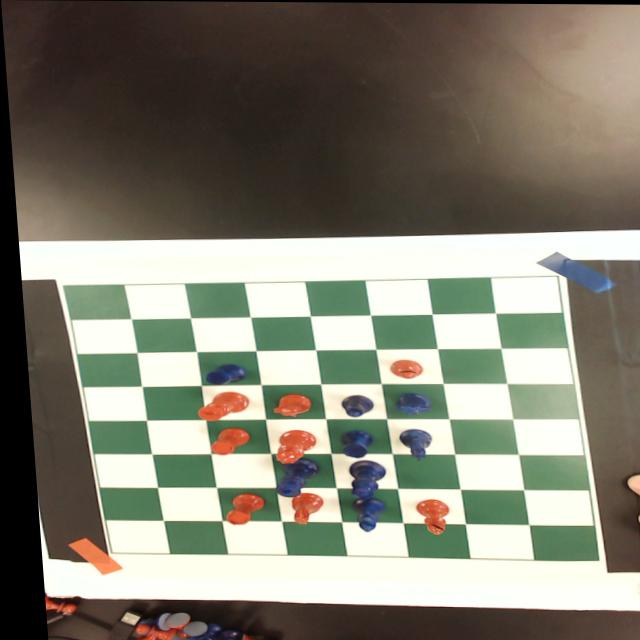B: (339, 498, 378, 533), (331, 394, 368, 418)
K: (265, 458, 315, 497)
N: (388, 429, 426, 463), (384, 392, 427, 417)
Q: (337, 459, 379, 499)
R: (196, 362, 241, 386), (330, 429, 367, 458)
b: (405, 497, 443, 535), (379, 359, 418, 379)
k: (190, 391, 243, 422)
n: (280, 491, 318, 527), (262, 392, 309, 418)
q: (264, 428, 310, 465)
r: (214, 493, 257, 525), (201, 427, 245, 456)
